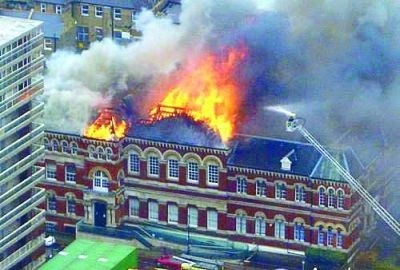fire: (145, 47, 246, 144), (83, 106, 131, 140)
